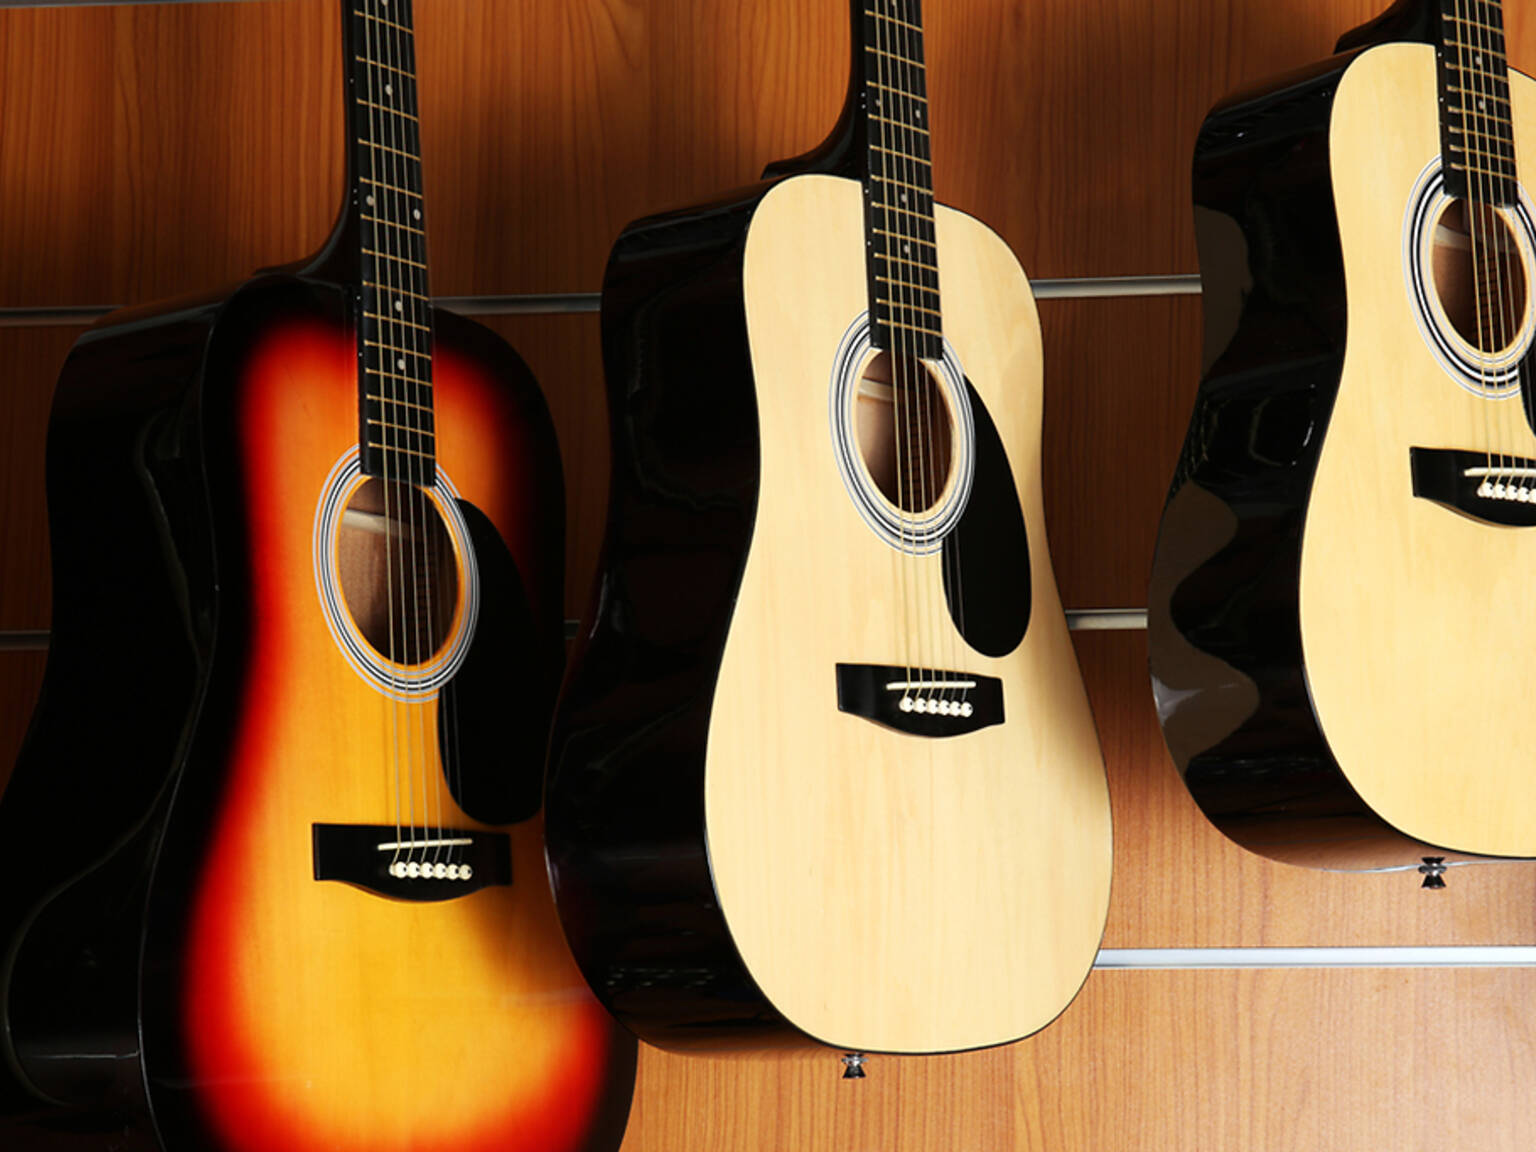guitar: (7, 1, 1457, 1152), (1, 0, 619, 1152), (700, 2, 1116, 1064), (1147, 1, 1536, 864), (1294, 0, 1536, 874), (1410, 0, 1536, 396)
